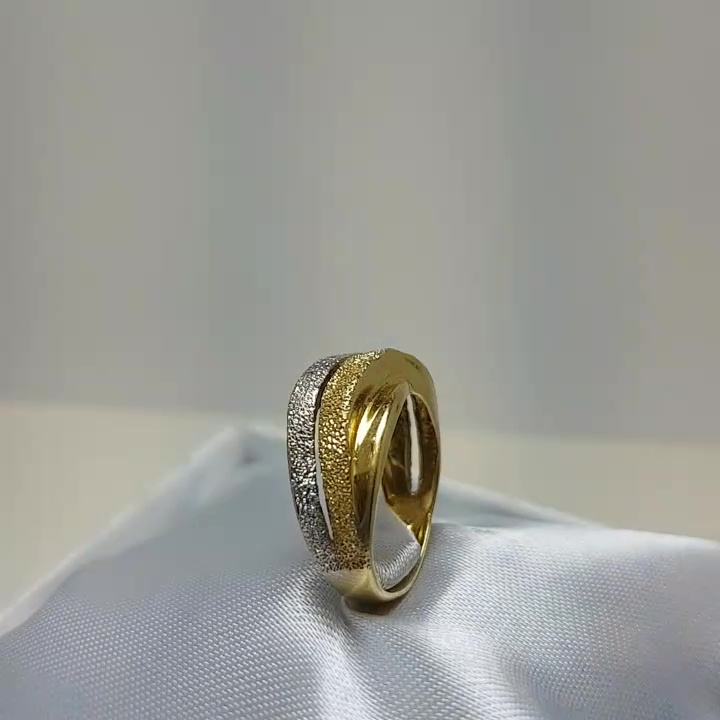Ring 5: (267, 321, 465, 623)
